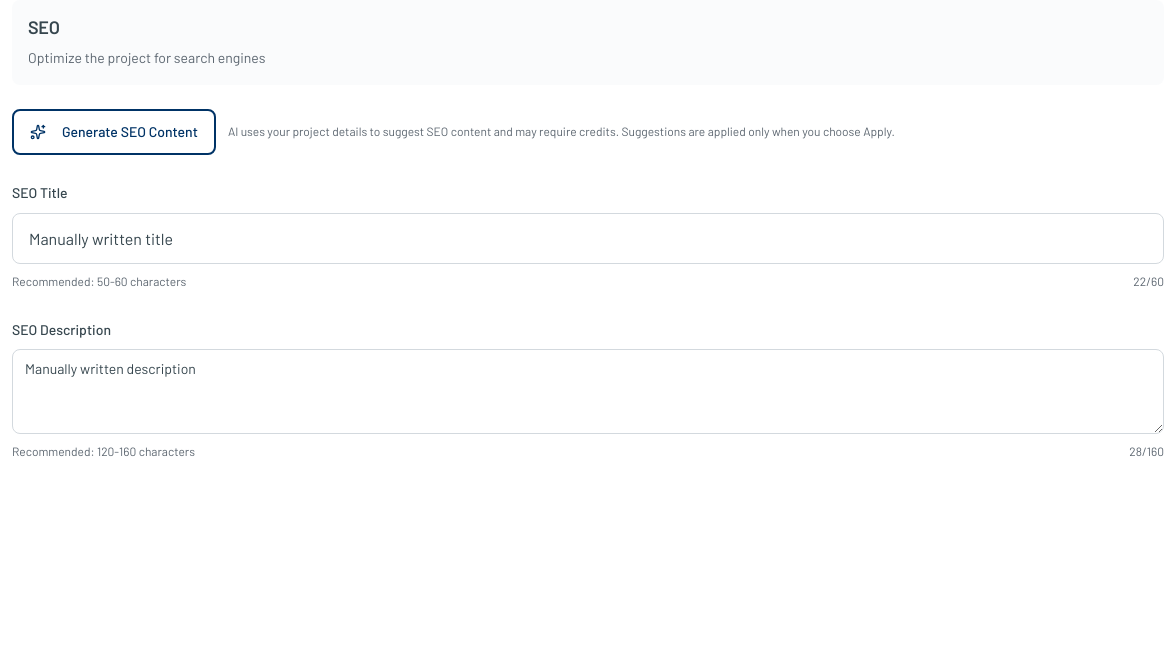
Test case: reviewing AI SEO suggestions › discards suggestions without altering manual metadata
Later steps or results of the test are not shown.
Step 1. Click the button "Generate SEO Content" → click(114, 132), box [12,109,216,155]
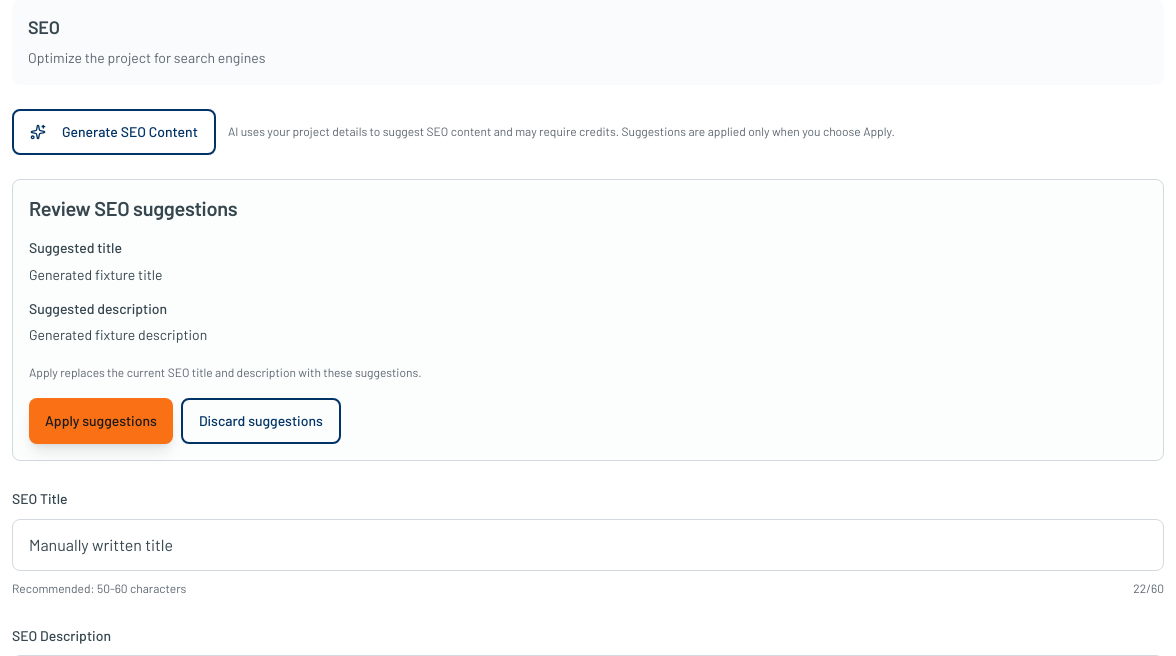
expect the button "Discard suggestions" is shown: met, box [181,398,341,444]
